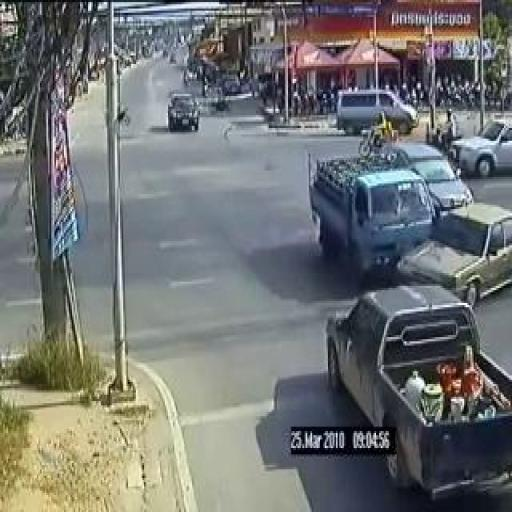Car: (318, 279, 512, 493), (304, 140, 434, 280), (397, 198, 512, 298), (396, 140, 472, 206), (335, 86, 420, 136), (453, 118, 512, 180), (166, 91, 202, 136)
Major Accident: (303, 130, 512, 306)
Motor: (359, 111, 399, 151)
